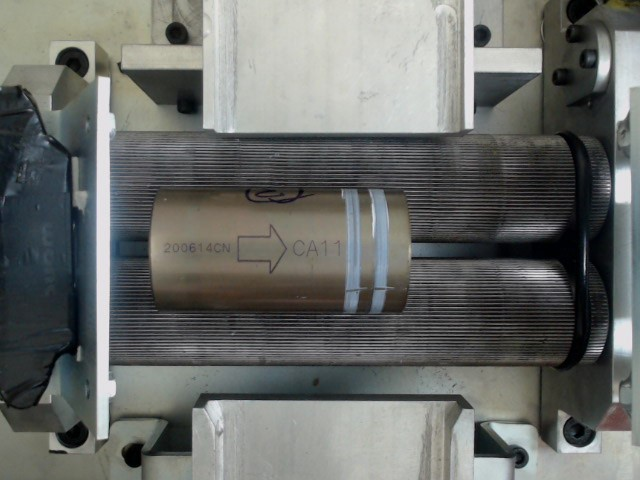arrow: (233, 222, 290, 278)
double_ringmark: (340, 191, 390, 314)
lotmark: (164, 239, 233, 256)
model_no: (293, 235, 347, 264)
